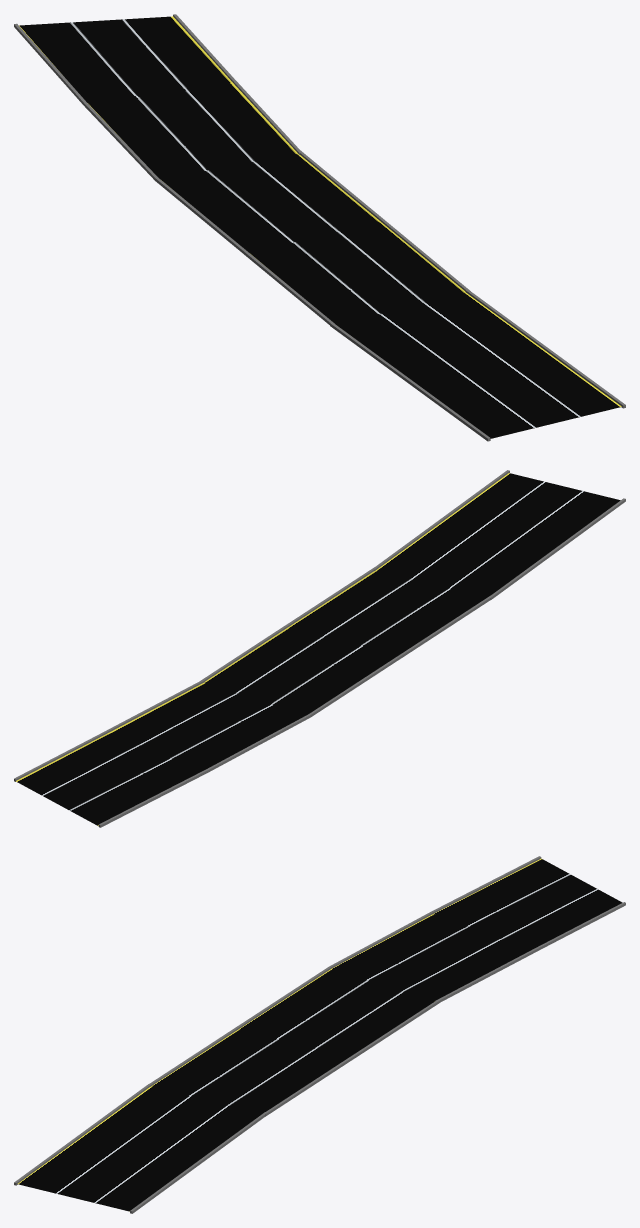
Rendered from TrackLongRight.fbx.
3 views of the same model, one above another, from view 1: azimuth 30°, elevation 25°; view 2: azimuth 150°, elevation 25°; view 3: azimuth 330°, elevation 25° (orthographic). The views are drawn at different scales.
Visible parts, largest first — view 1: Pavement.003; view 2: Pavement.003; view 3: Pavement.003.
Part boxes in pixels (x1,y1,x2,y2): Pavement.003: (14, 14, 625, 441); Pavement.003: (14, 470, 625, 827); Pavement.003: (14, 856, 625, 1213).
Size of the model in its own units: 28149 by 6014 by 83.66.
4 materials, 2 textured.
